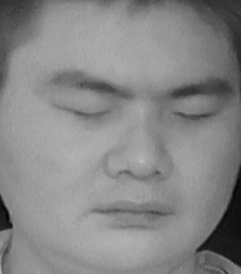blink: (172, 100, 224, 131), (59, 95, 111, 125)
mouth: (92, 190, 175, 236)
